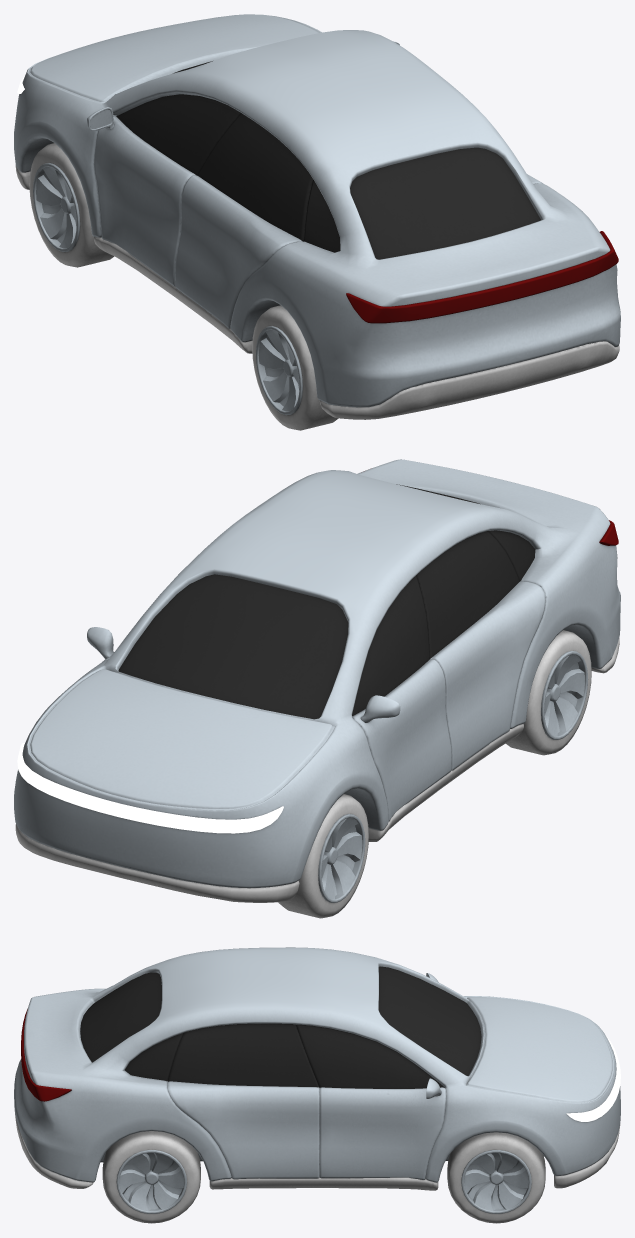
The model's file is mbx-car_ego.glb.
3 views of the same model, one above another, from view 1: azimuth 30°, elevation 25°; view 2: azimuth 150°, elevation 25°; view 3: azimuth 270°, elevation 25° (orthographic). The views are drawn at different scales.
Visible parts, largest first — view 1: mbx-car_ego; view 2: mbx-car_ego; view 3: mbx-car_ego.
Part boxes in pixels (x1=…): mbx-car_ego: x1=14, y1=14, x2=620, y2=430; mbx-car_ego: x1=14, y1=459, x2=620, y2=918; mbx-car_ego: x1=14, y1=947, x2=620, y2=1223.
Bounding box in the file's own units: 1.57 × 1.24 × 3.43.
Materials: 5 (5 with a texture image).
